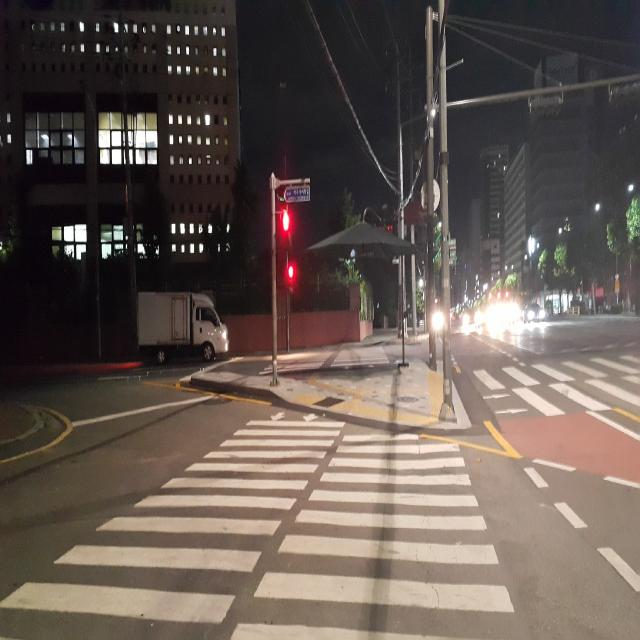빨간불: (281, 214, 290, 240)
횡단보도: (1, 405, 519, 638)
